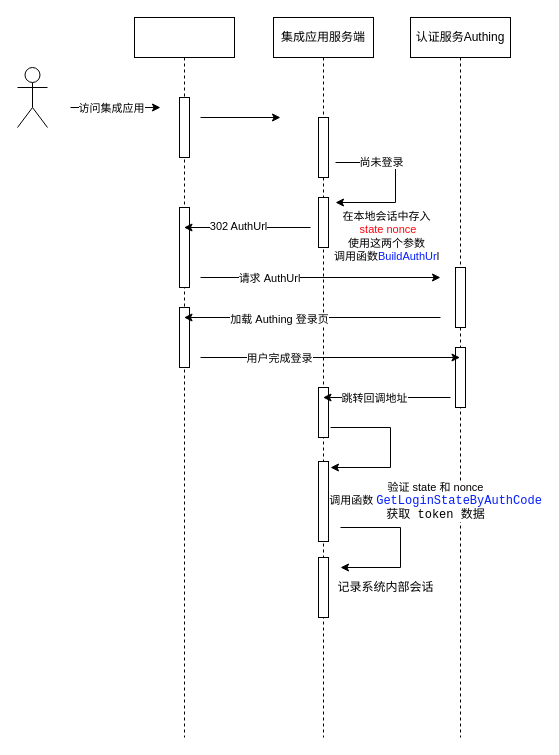
Some shapes in this 559 by 755 pixel diagram are drawn without their labels. Each missing label, with the centre of its shape:
"浏览器" goes at pixel 184 377.
"用户" goes at pixel 32 97.
